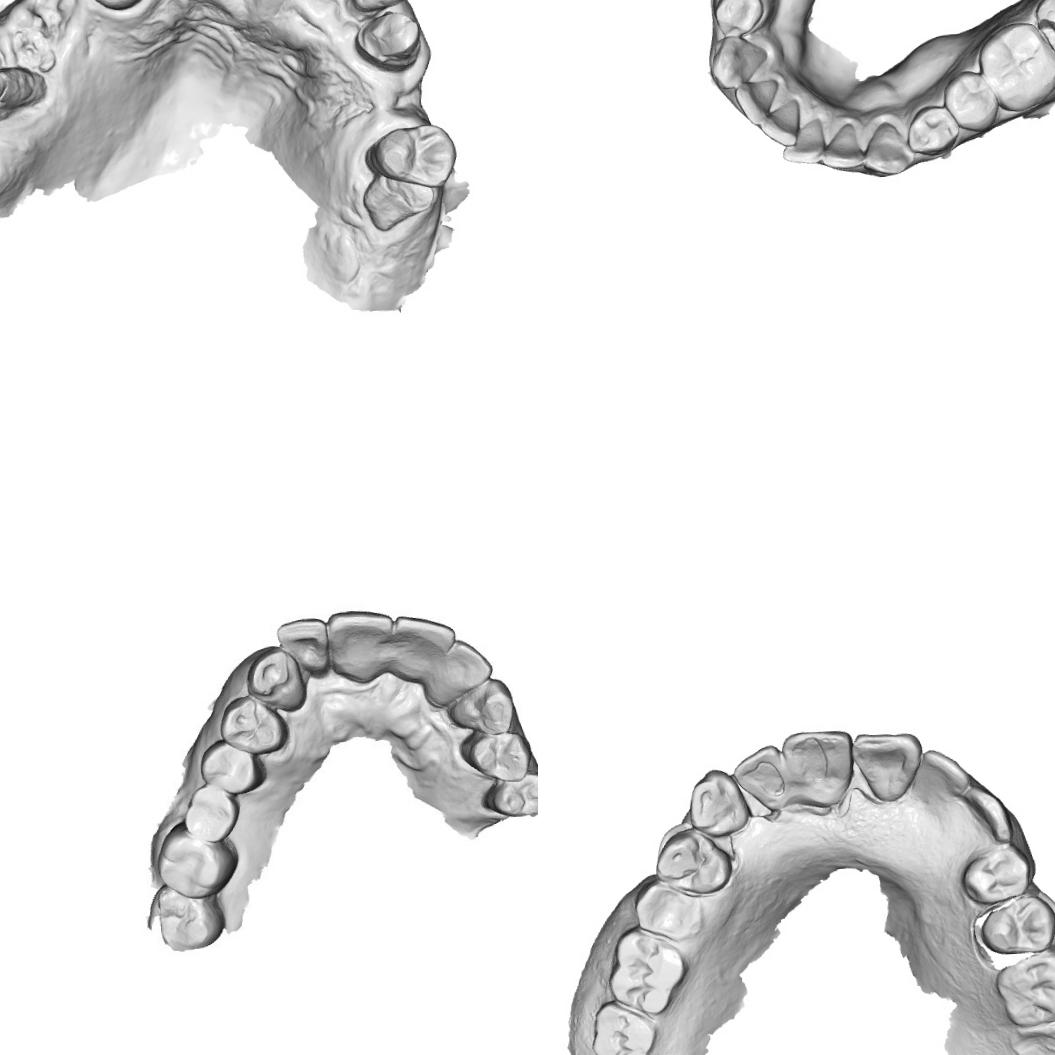canine: (685, 766, 753, 838), (450, 675, 518, 741), (246, 647, 306, 713), (706, 31, 769, 92), (962, 779, 1016, 846), (859, 118, 914, 179)
incisor: (781, 724, 857, 809), (851, 726, 925, 804), (386, 608, 458, 681), (428, 633, 498, 704), (728, 742, 794, 815), (328, 606, 395, 676), (277, 611, 331, 676), (915, 744, 973, 801), (816, 119, 866, 174), (778, 115, 830, 165), (732, 75, 781, 128), (756, 96, 803, 150)
inlay: (1034, 0, 1055, 62)
molar: (602, 922, 690, 1018), (973, 19, 1055, 115), (153, 820, 242, 900), (994, 951, 1055, 1030), (586, 996, 660, 1055)
premolar: (364, 122, 459, 192), (652, 826, 734, 898), (977, 890, 1055, 956), (960, 840, 1034, 908), (215, 691, 289, 756), (632, 876, 698, 942), (940, 67, 1000, 136), (196, 738, 264, 798), (460, 725, 529, 784), (178, 781, 240, 846), (902, 102, 963, 157), (483, 771, 538, 825), (710, 0, 767, 41)
